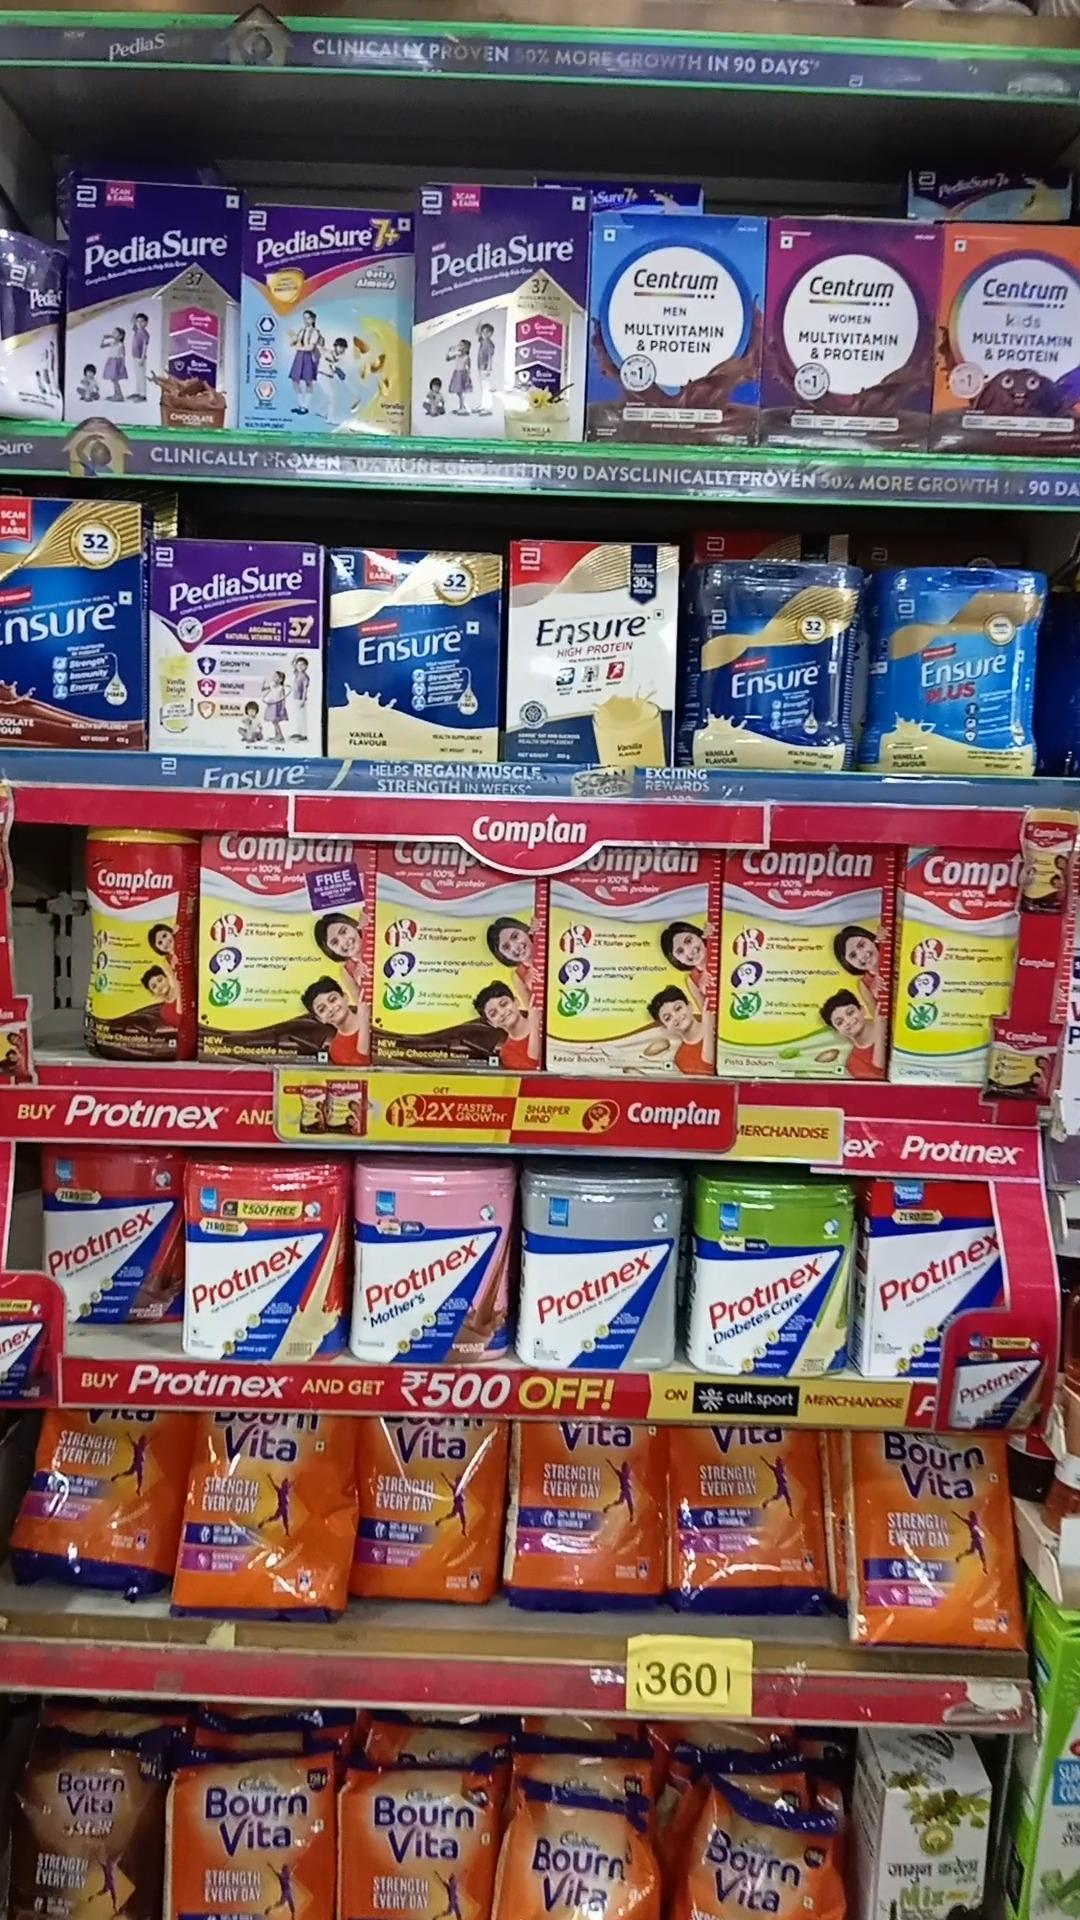BOURN_VITA_750_G_POUCH: (848, 1427, 1023, 1654), (183, 1411, 330, 1619), (502, 1425, 661, 1618), (7, 1418, 174, 1592), (674, 1432, 825, 1618), (356, 1416, 492, 1604), (179, 1749, 324, 1920)
BOURN_VITA_FIVE_STAR_MAGIC_750_G_POUCH: (22, 1729, 162, 1920)
COMPLAN_CHOCOLATE_500_GMS_JAR: (87, 832, 190, 1056)
COMPLAN_CHOCOLATE_500_GMS_PACK: (202, 840, 368, 1064), (378, 864, 529, 1068)
COMPLAN_CREAMY_CLASSIC_500_G_PACK: (905, 848, 1005, 1087)
COMPLAN_KESAR_BADAM_500_GMS_PACK: (547, 862, 712, 1072)
COMPLAN_PISTA_BADAM_500_GMS_PACK: (720, 855, 893, 1077)
ENSURE_VANILLA_400_G_PACK: (506, 539, 676, 764), (331, 549, 498, 760)
PEDIASURE_CHOCOLATE_500_G_PACK: (63, 181, 239, 425)
PEDIASURE_VANILLA_500_G_PACK: (411, 191, 584, 438)
PROTINEX_CHOCOLATE_400_G_JAR: (41, 1147, 174, 1325)
PROTINEX_ORIGINAL_400_G_JAR: (522, 1184, 679, 1367)
PROTINEX_VANILLA_400_G_JAR: (189, 1172, 347, 1354)
